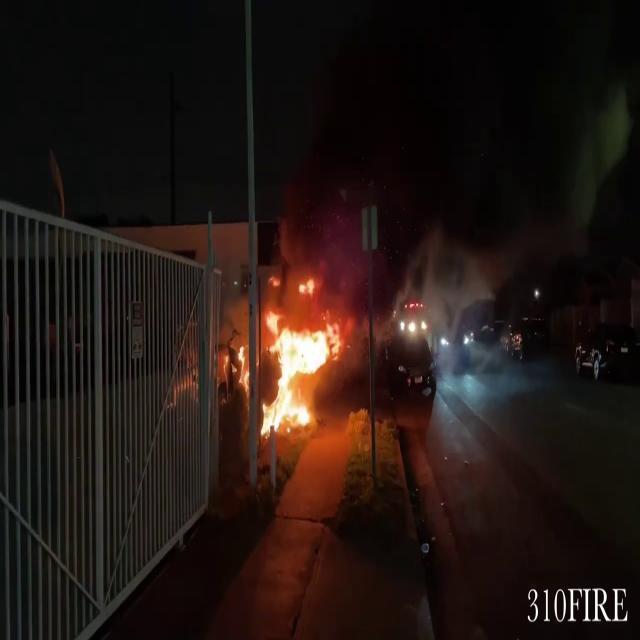Fire: (258, 302, 339, 438)
Smoke: (272, 100, 366, 310)
